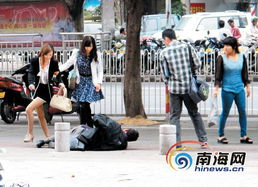fall: (35, 110, 139, 153)
